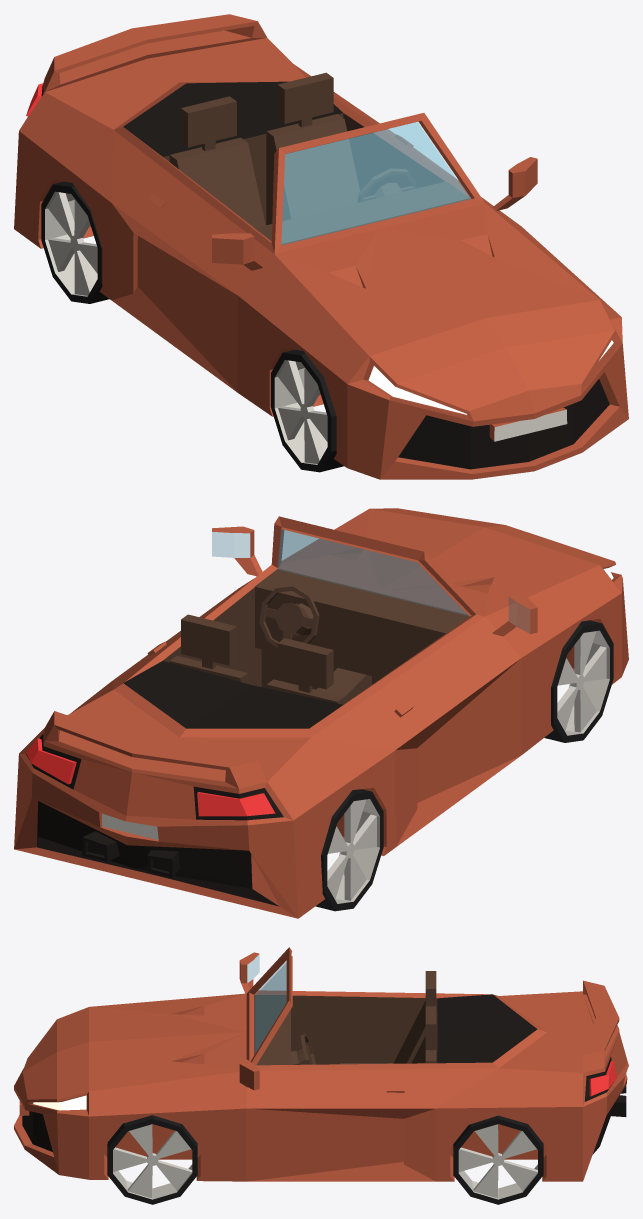
File: roadster.glb
3 renders of one model, top to bottom at view 1: azimuth 30°, elevation 25°; view 2: azimuth 150°, elevation 25°; view 3: azimuth 270°, elevation 25°, orthographic. The views are drawn at different scales.
Visible parts, largest first — view 1: Roadster, Roadster_wheel_front_right_mesh, Roadster_wheel_rear_right_mesh; view 2: Roadster, Roadster_wheel_front_right_mesh, Roadster_wheel_rear_right_mesh; view 3: Roadster, Roadster_wheel_front_left_mesh, Roadster_wheel_rear_left_mesh.
Part boxes in pixels (x1,y1,x2,y2): Roadster: [14, 14, 628, 479]; Roadster_wheel_front_right_mesh: [271, 349, 343, 472]; Roadster_wheel_rear_right_mesh: [41, 181, 109, 303]; Roadster: [14, 508, 628, 918]; Roadster_wheel_front_right_mesh: [544, 620, 613, 742]; Roadster_wheel_rear_right_mesh: [315, 789, 383, 911]; Roadster: [14, 947, 628, 1181]; Roadster_wheel_front_left_mesh: [107, 1115, 197, 1204]; Roadster_wheel_rear_left_mesh: [453, 1115, 543, 1204].
Size of the model in its own units: 2 by 1.4 by 4.35.
